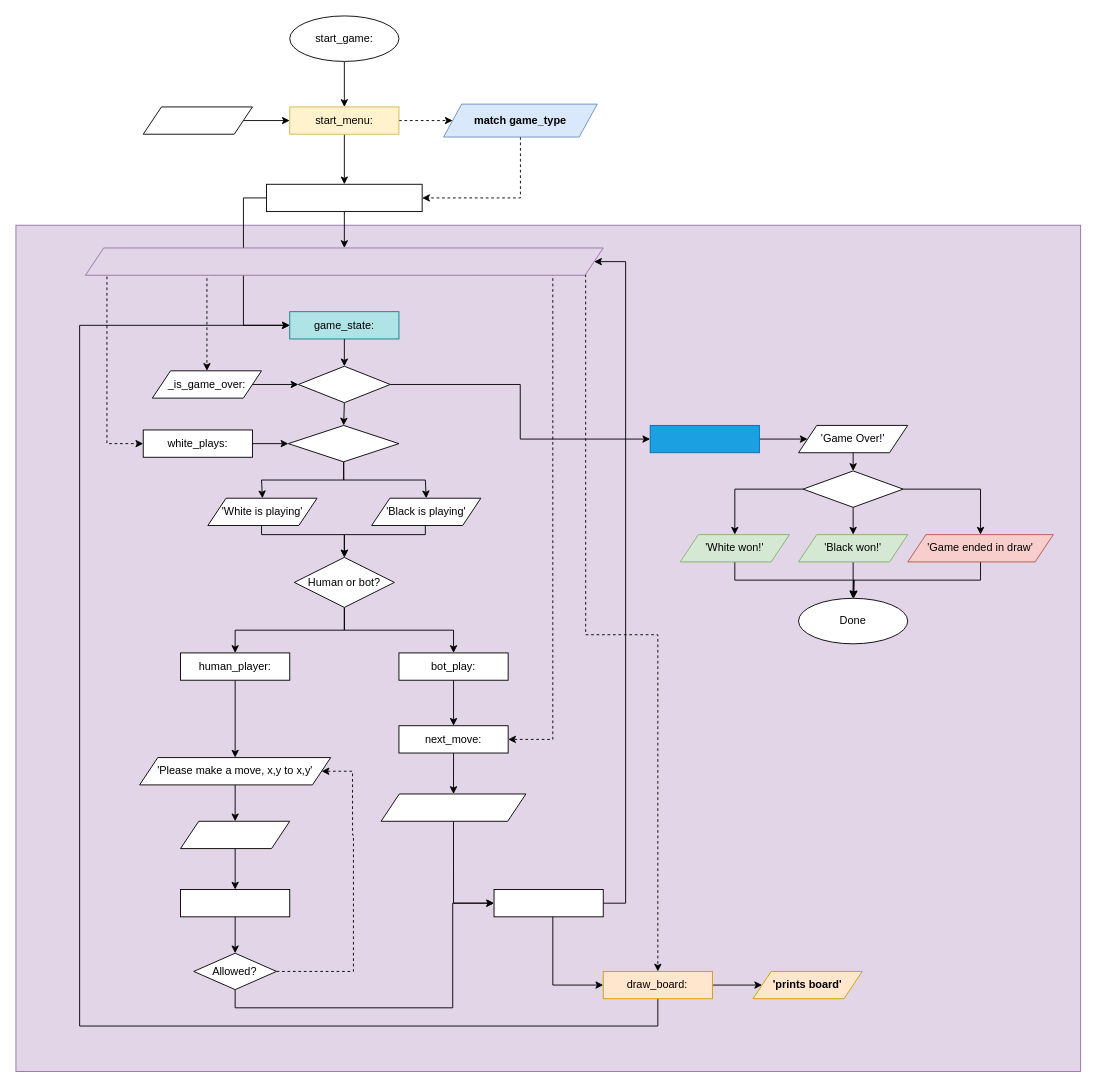
The diagram is 1097 pixels wide and 1087 high, and some of its shapes have lost their labels. The box of each missing label's shape, as (x1, y1, x2, y2) in pixels:
'Informs about move': (380, 793, 526, 821)
'user input': (142, 106, 252, 134)
Board: (85, 247, 603, 275)
Coordinates 'x,y': (180, 820, 290, 849)
game over?: (297, 365, 390, 403)
game_over:: (649, 425, 759, 453)
is_legal:: (180, 889, 290, 917)
make_board:: (266, 183, 422, 212)
move:: (493, 889, 603, 917)
who is playing?: (287, 425, 399, 462)
Win/ Tie?: (802, 470, 903, 507)
